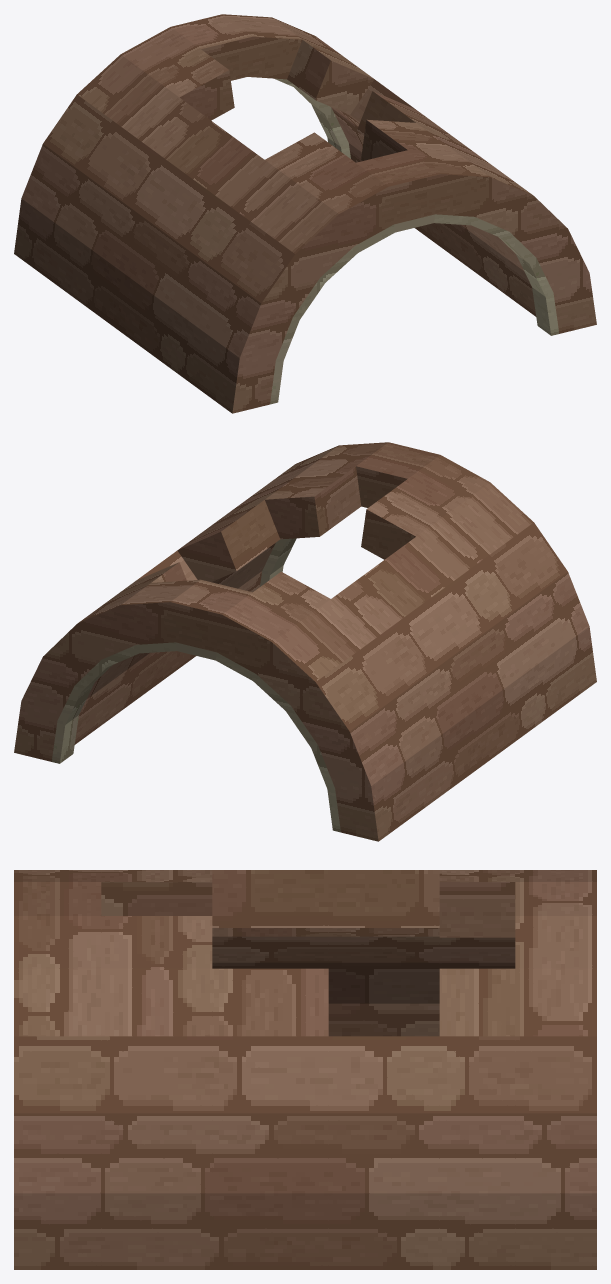
File: spalled_barrel_vault.glb
3 renders of one model, top to bottom at view 1: azimuth 30°, elevation 25°; view 2: azimuth 150°, elevation 25°; view 3: azimuth 270°, elevation 25°, orthographic. The views are drawn at different scales.
Parts seen in each view (by area): view 1: Spalled barrel vault; view 2: Spalled barrel vault; view 3: Spalled barrel vault.
Part boxes in pixels (x1,y1,x2,y2): Spalled barrel vault: (14,14,596,413); Spalled barrel vault: (14,442,596,841); Spalled barrel vault: (14,870,596,1269).
Bounding box in the file's own units: 1.93 × 0.9542 × 2.
3 materials, 2 textured.
